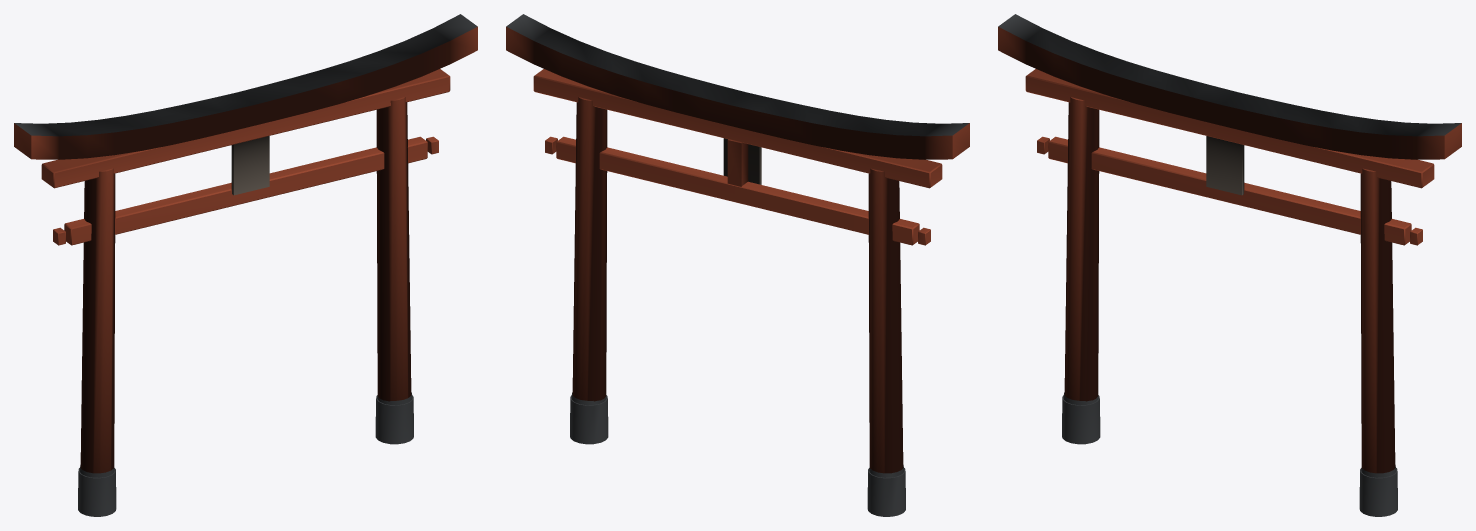
Rendered from bld.shrine.torii.mo.glb.
The picture shows the model from 3 angles, left to right: view 1: azimuth 30°, elevation 25°; view 2: azimuth 150°, elevation 25°; view 3: azimuth 330°, elevation 25°; orthographic projection.
Visible parts, largest first — view 1: LOD0; view 2: LOD0; view 3: LOD0.
Boxes of the visible parts, x1=… form: LOD0: x1=14, y1=14, x2=477, y2=516; LOD0: x1=506, y1=14, x2=969, y2=516; LOD0: x1=998, y1=14, x2=1461, y2=516.
Size of what is drawn, in the model's own units: 4.5 by 3.83 by 0.3399.
